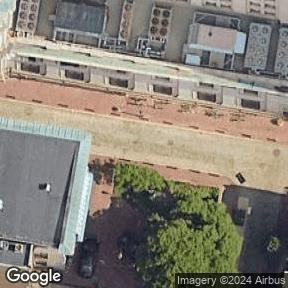vegetation: (108, 139, 250, 288), (263, 233, 282, 258)
